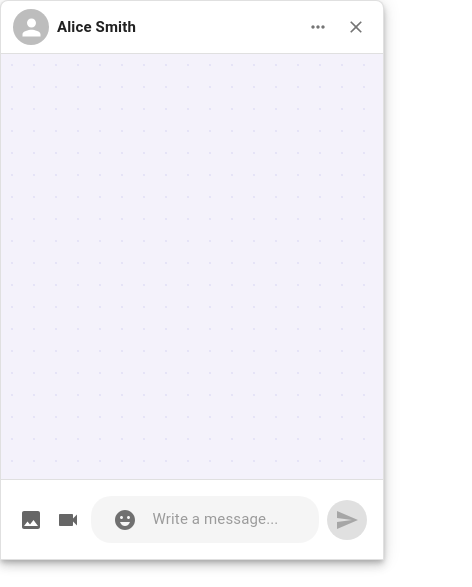
it: DockedChatWindow — block menu item › opening the ⋯ menu shows "Block user"
Click the button named "more options" at [318, 27], box [303,12,333,42]
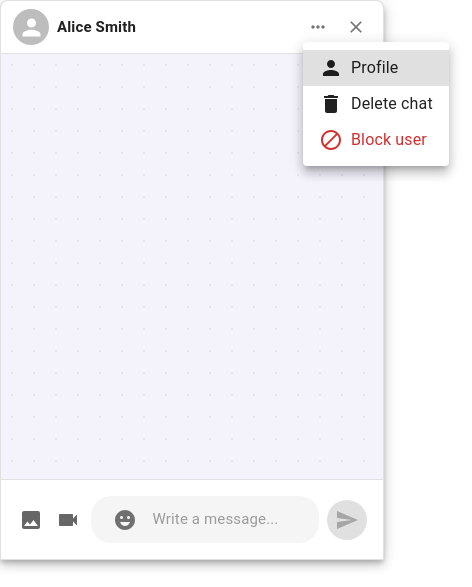
Check: the menu item "Block user" is shown, box [319,128,427,152]
